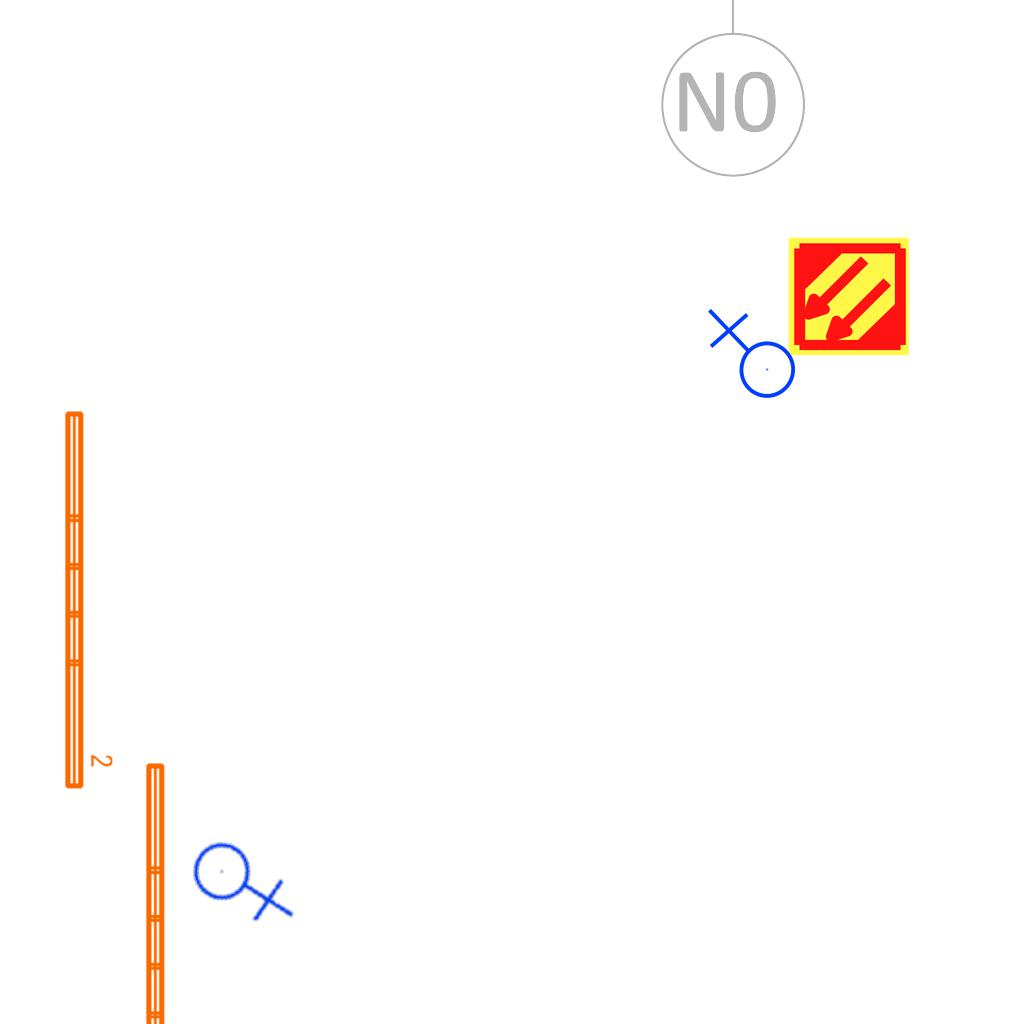ASR_Ansaugrauchmelder: (786, 234, 911, 359)
Ambulanz_Pendelleuchte_LED: (59, 406, 115, 793), (140, 758, 196, 1024)
Elektroanschluss_allgemein_230V_Geraeteanschlussdose_230V: (183, 819, 300, 939), (703, 308, 797, 407)
